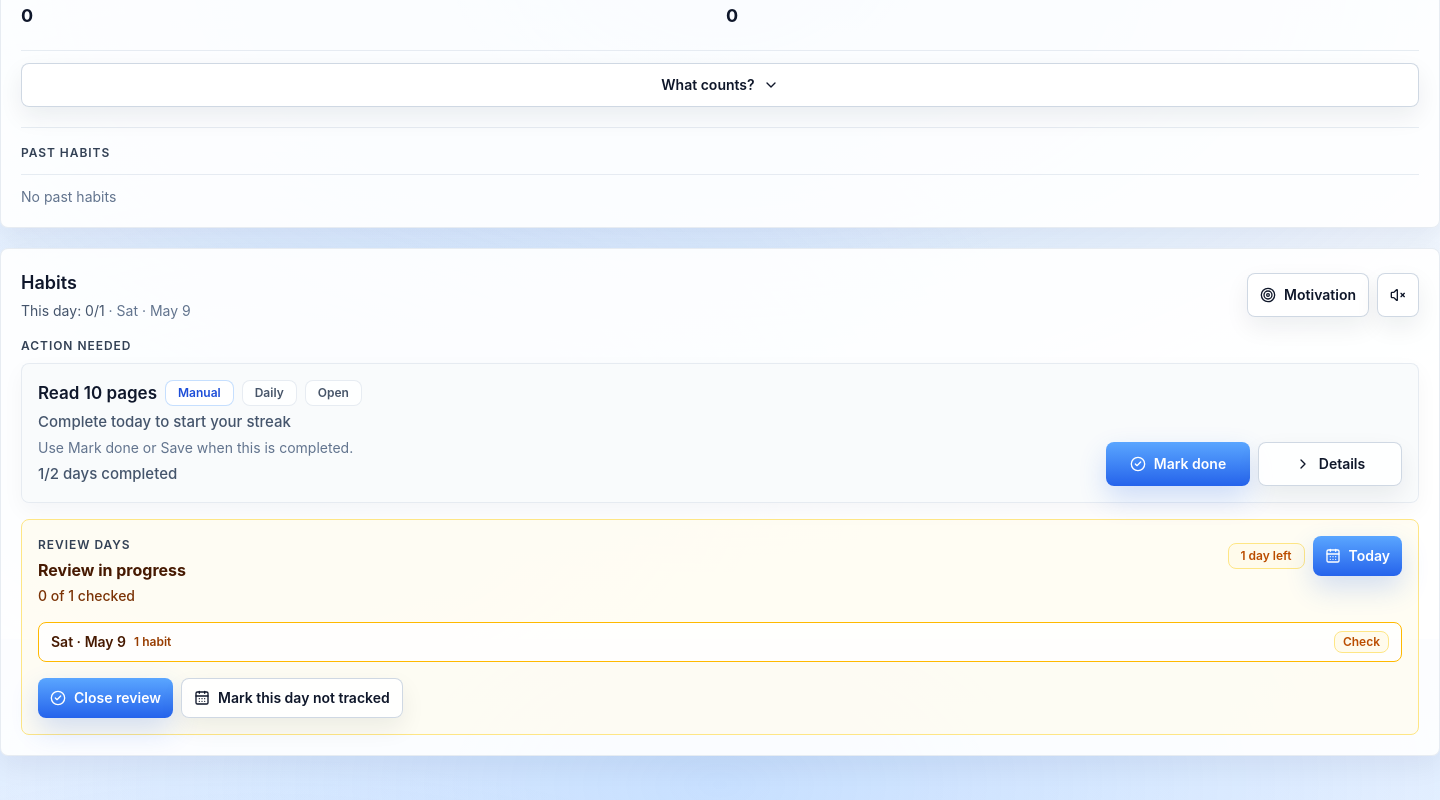
it: HabitPerfectDayHub › shows one eligible historical review date and supports mark then Undo
(page scrolled)
Expected: the text "0 of 1 checked" is shown, [38,586,135,604]
Click the button "Mark this day not tracked" at (292, 698), box [181,678,403,718]
(page scrolled)
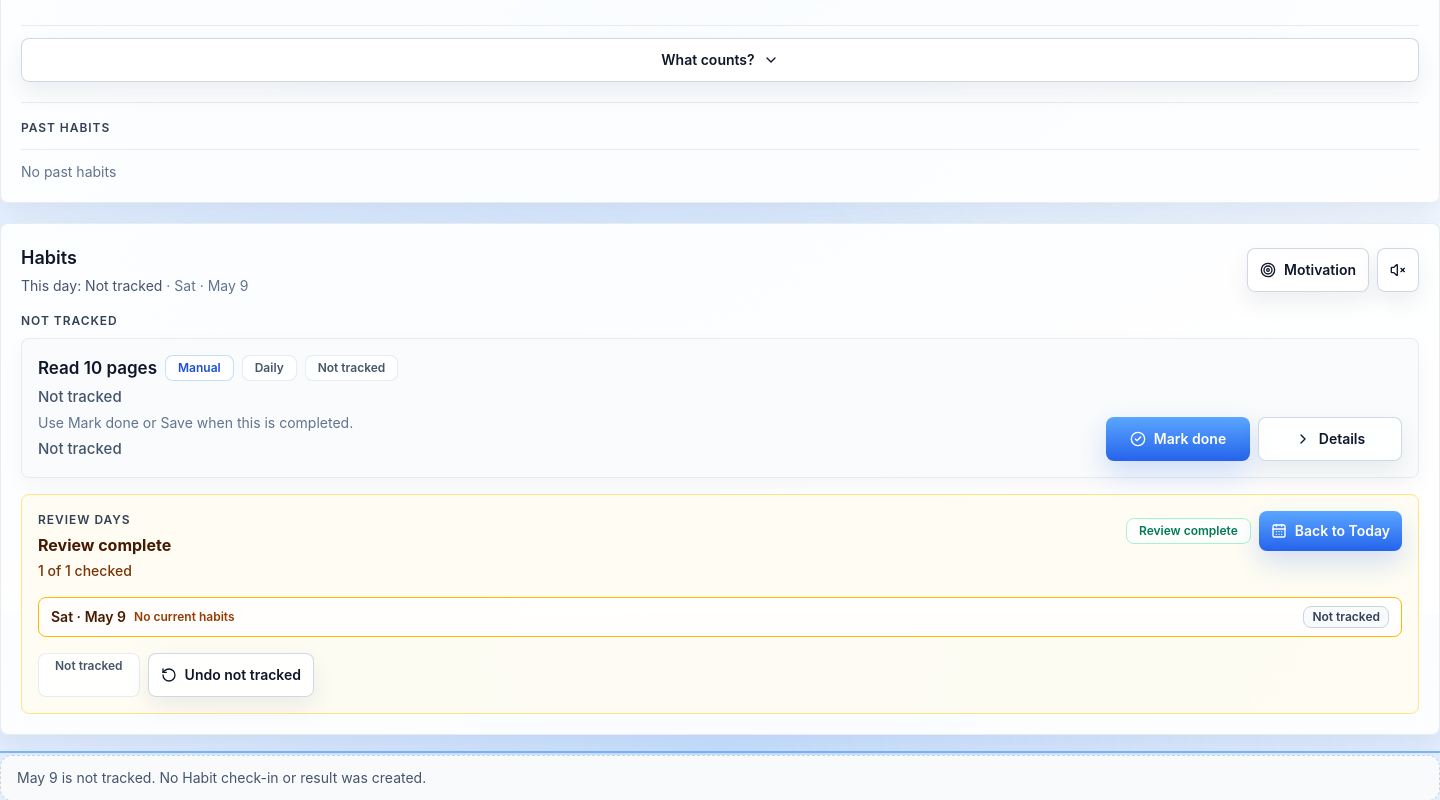
Expected: the button "Undo not tracked" is shown
Click the button "Undo not tracked" at (231, 674), box [148,652,314,696]
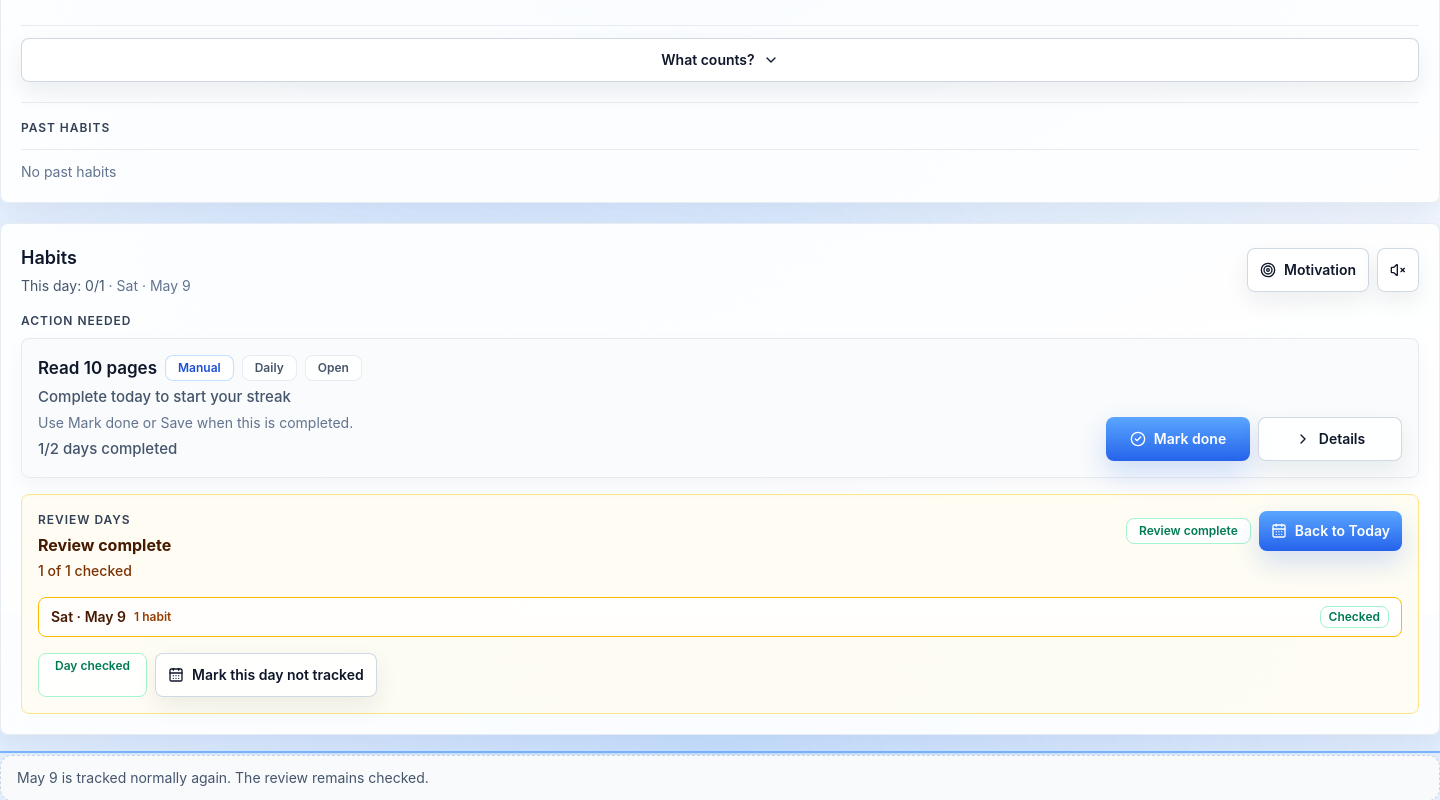
Expected: the list item with test id "habits-absence-review-date-2026-05-09" shows "Checked", [1329,608,1380,624]
